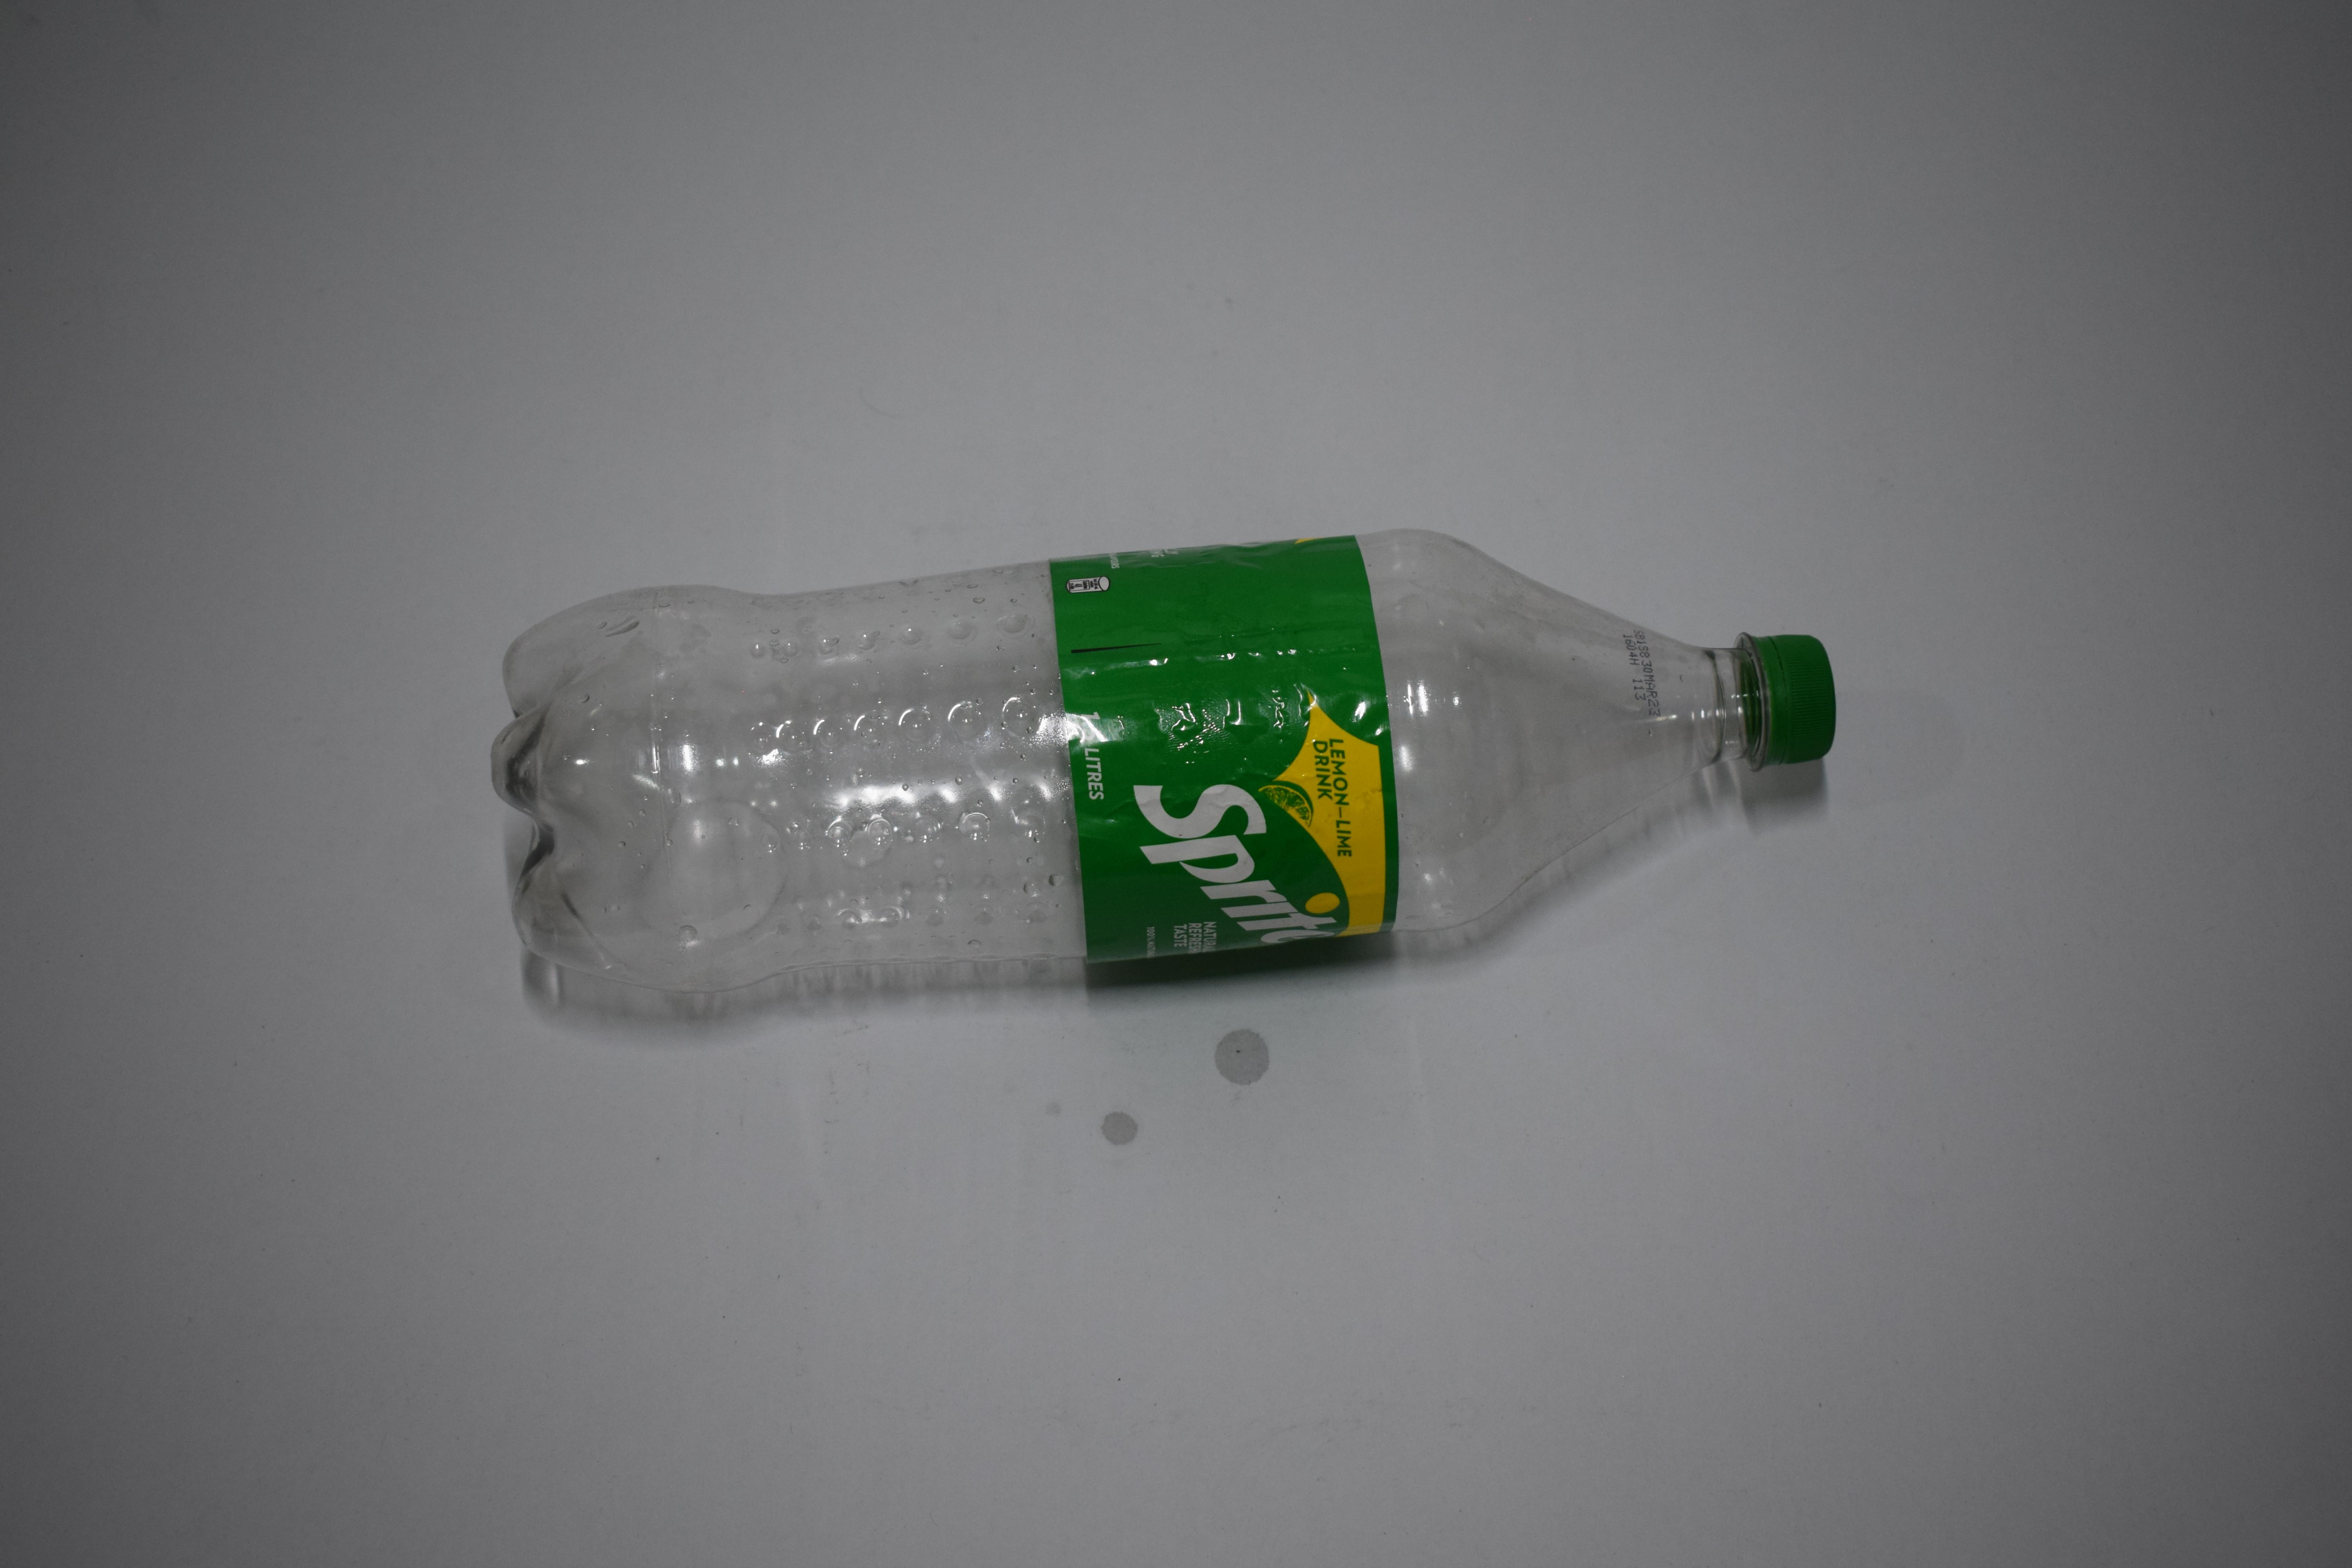bottle: (1059, 518, 1246, 1019)
